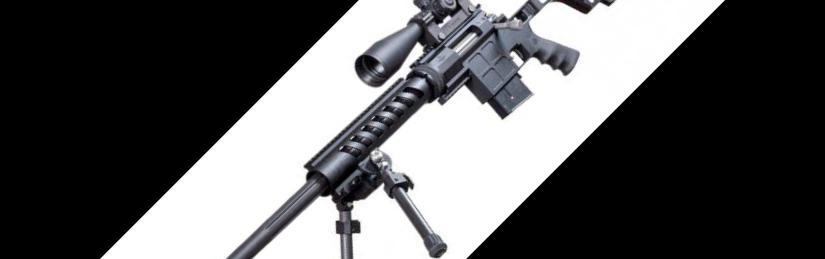larga: (225, 0, 616, 259)
